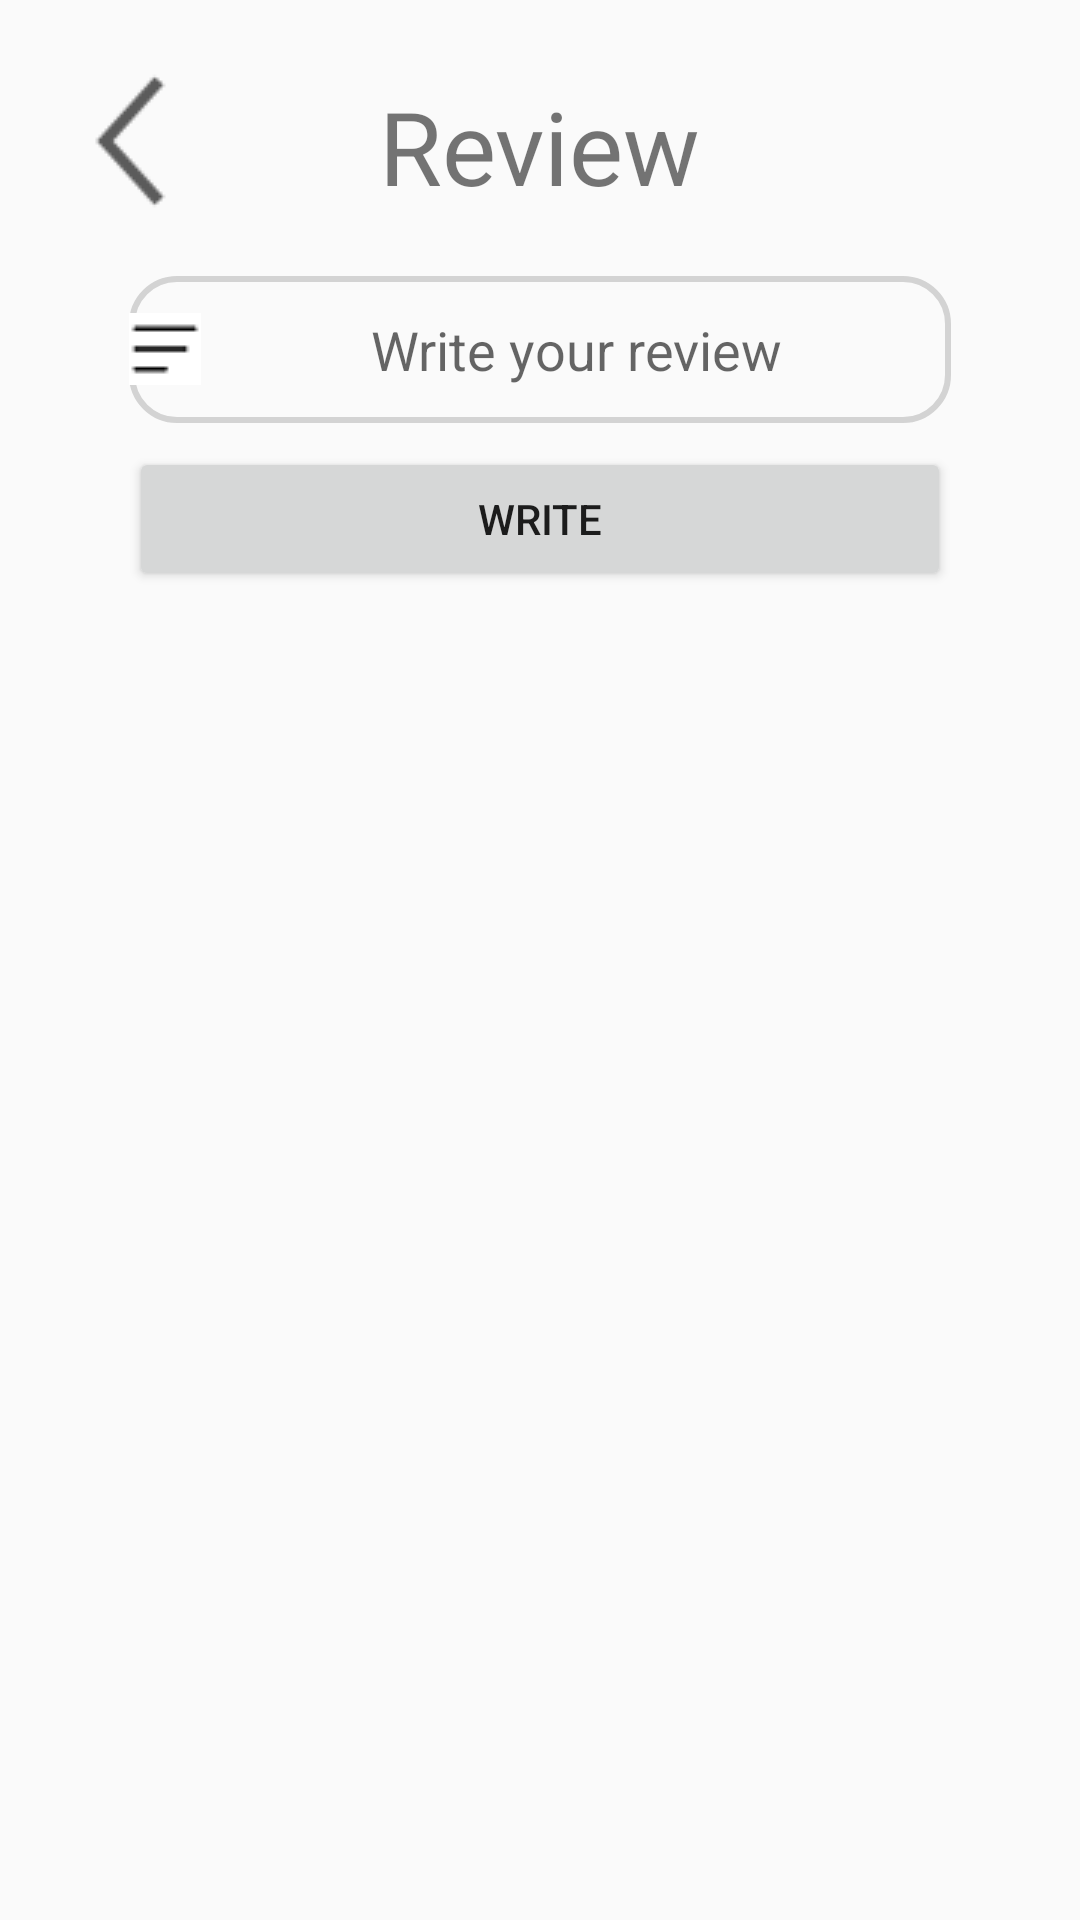

Icons on this 1080w x 1920h Android screen, each with its box as (x1, y1, x2, y2):
back: (96, 77, 165, 205)
